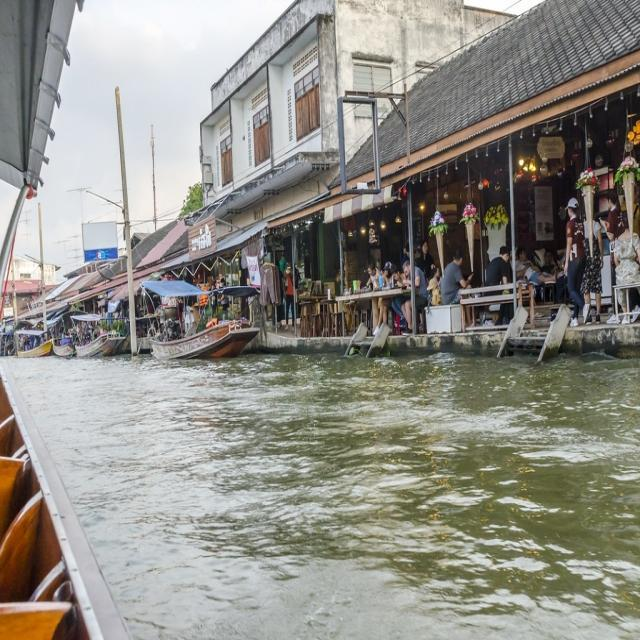boat: (146, 322, 260, 370), (70, 328, 127, 367), (7, 340, 61, 364)
